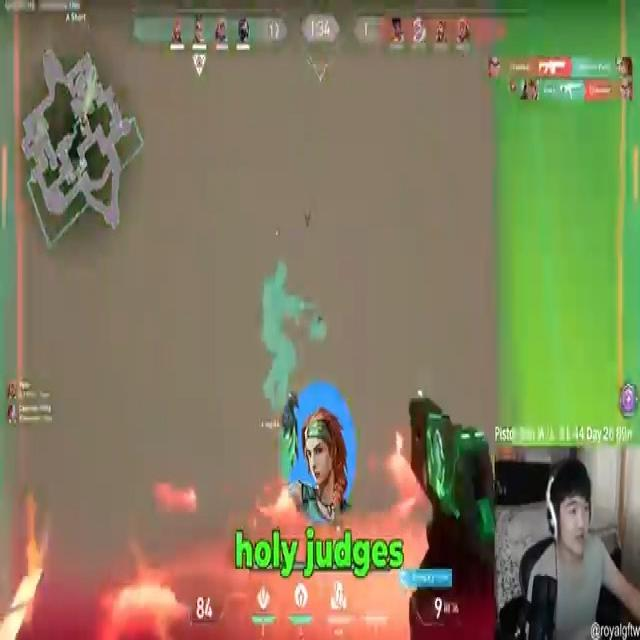ally behind wall: (264, 262, 309, 428)
